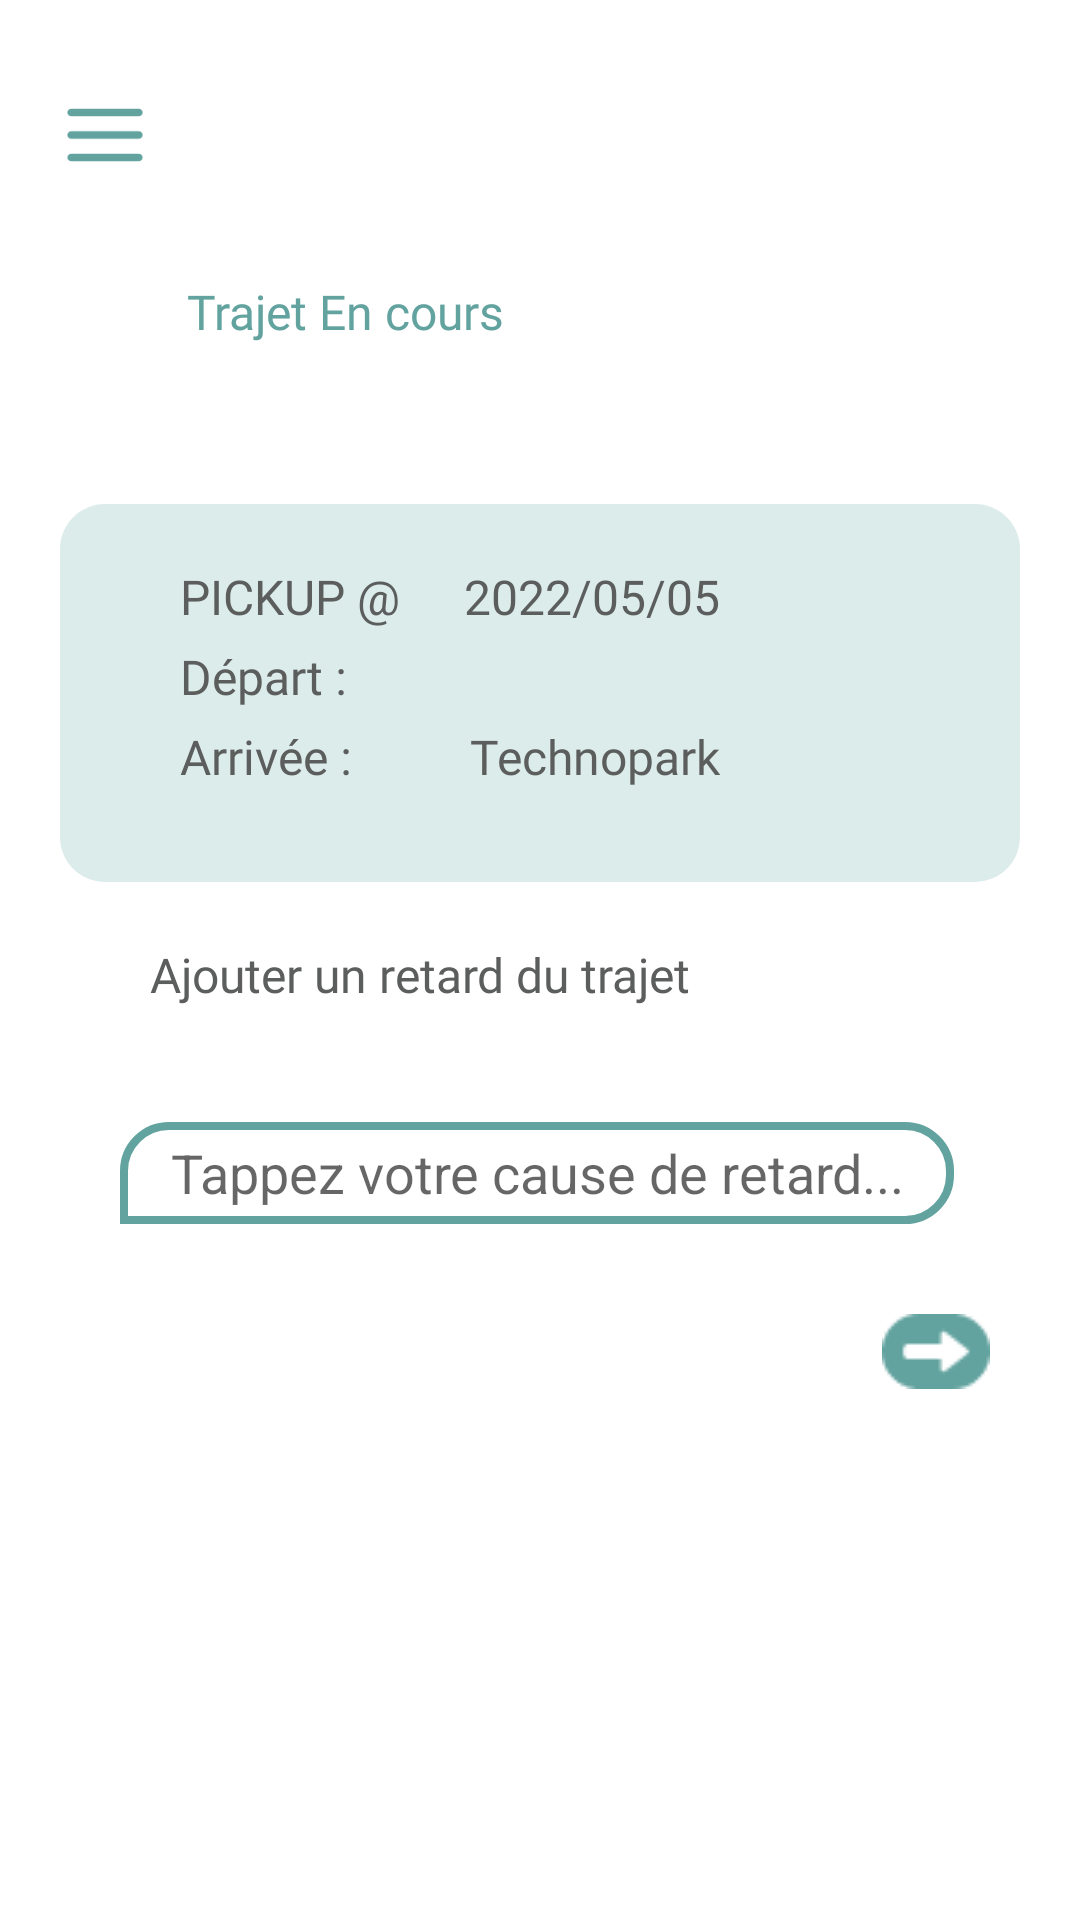

Locate icon controls on the screen. Image size 1080px×1920px, boxes as [left=x1, top=y1, right=x2, bottom=y2].
menu: [left=67, top=108, right=143, bottom=162]
